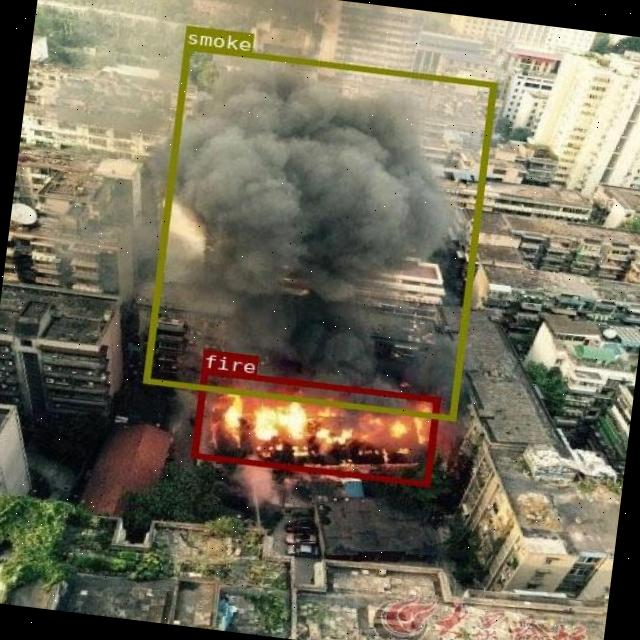fire: (190, 366, 440, 486)
smoke: (142, 43, 494, 420)
